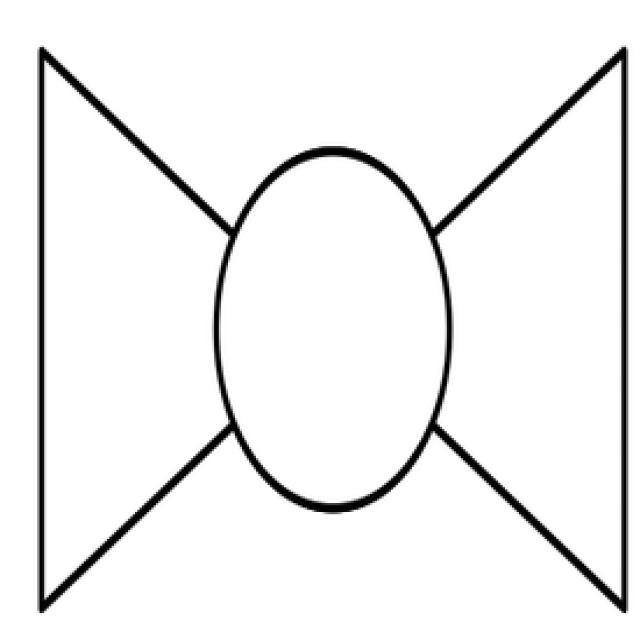ball valve: (41, 52, 623, 606)
